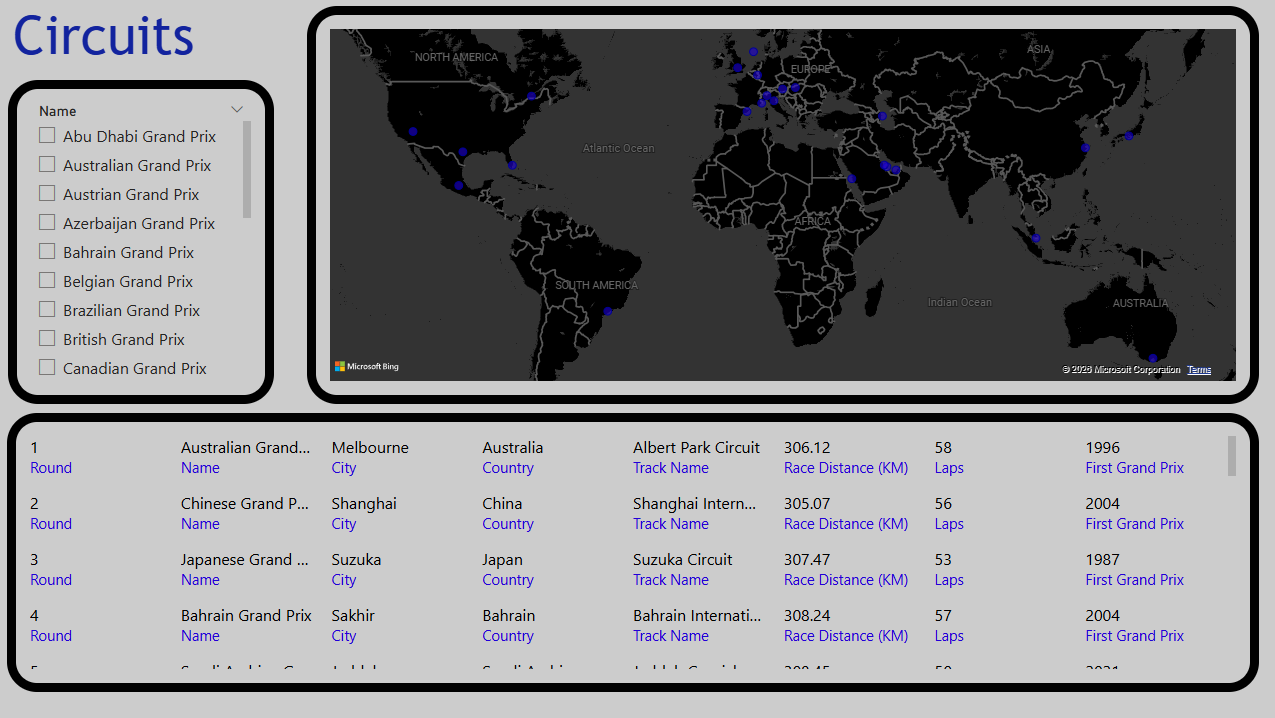

What the dashboard file says about the page in this screenshot:
{"tool":"powerbi","page":{"name":"Circuits","canvas":[1280,720],"ordinal":3},"visuals":[{"type":"textbox","box":[9.8,0,202.4,82.1],"z":0},{"type":"multiRowCard","fields":{"Values":["Tracks_2025.Track ID","Tracks_2025.Name","Tracks_2025.City","Tracks_2025.Country","Tracks_2025.Track Name","Tracks_2025.Race Distance (KM)","Tracks_2025.Laps","Tracks_2025.First Grand Prix"]},"box":[9.5,414,1251.5,279.2],"z":1000},{"type":"map","fields":{"Y":["Tracks_2025.Latitude"],"X":["Tracks_2025.Longitude"]},"box":[308.9,6.5,952.1,398.5],"z":2000},{"type":"slicer","fields":{"Values":["Tracks_2025.Name"]},"box":[9.8,81.1,266.3,323.9],"z":3000}]}

Visuals, with their boxes in screenshot pixels (x1, y1, x2, y2), scaled from the page's 1280x720 canvas onto the 1275x718 screenshot:
textbox: <box>10,0,211,82</box>
multiRowCard - Tracks_2025.Track ID x Tracks_2025.Name: <box>9,413,1256,691</box>
map - Tracks_2025.Latitude x Tracks_2025.Longitude: <box>308,6,1256,404</box>
slicer - Tracks_2025.Name: <box>10,81,275,404</box>
